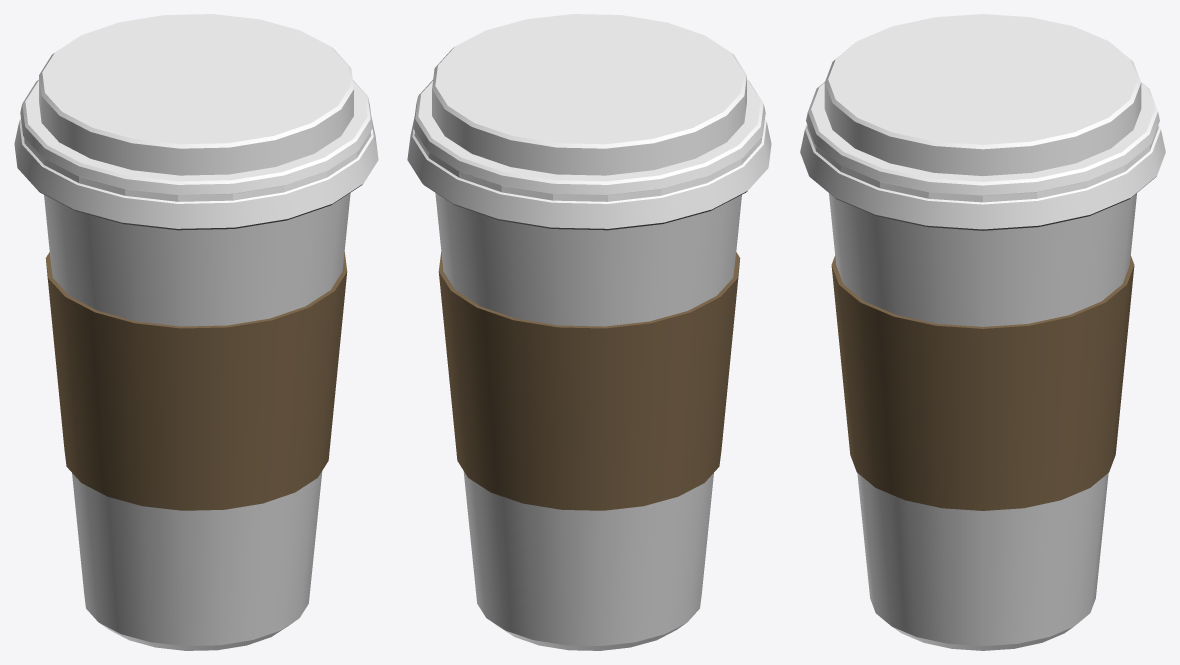
File: coffee cup.fbx
3 views of the same model, side by side, from view 1: azimuth 30°, elevation 25°; view 2: azimuth 150°, elevation 25°; view 3: azimuth 270°, elevation 25° (orthographic).
Parts seen in each view (by area): view 1: Cup_Top, Cup_Body, Cup_Wrap; view 2: Cup_Top, Cup_Body, Cup_Wrap; view 3: Cup_Top, Cup_Body, Cup_Wrap.
Boxes of the visible parts, left/top/right/bottom form: Cup_Top: left=14, top=14, right=378, bottom=230; Cup_Body: left=44, top=193, right=350, bottom=650; Cup_Wrap: left=45, top=252, right=347, bottom=510; Cup_Top: left=407, top=14, right=771, bottom=230; Cup_Body: left=435, top=193, right=741, bottom=650; Cup_Wrap: left=438, top=252, right=740, bottom=510; Cup_Top: left=800, top=14, right=1165, bottom=230; Cup_Body: left=829, top=193, right=1136, bottom=650; Cup_Wrap: left=831, top=255, right=1134, bottom=510.
Bounding box in the file's own units: 4.37 × 6.98 × 4.37.
